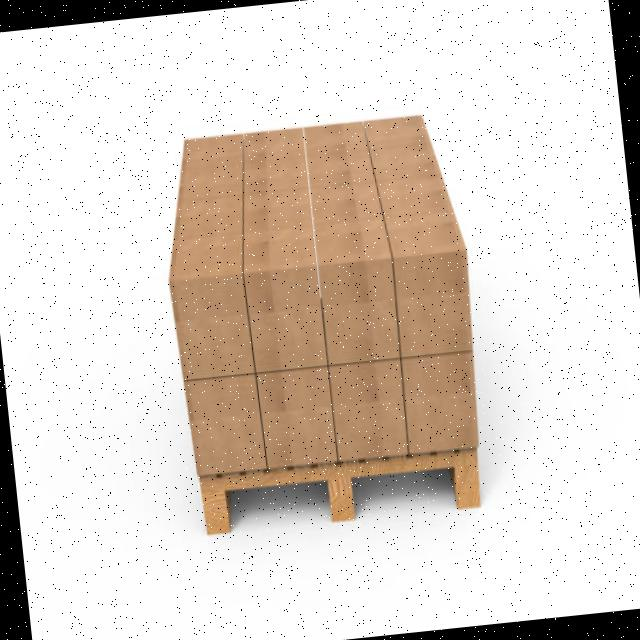Wooden-Pallets: (195, 444, 486, 541)
